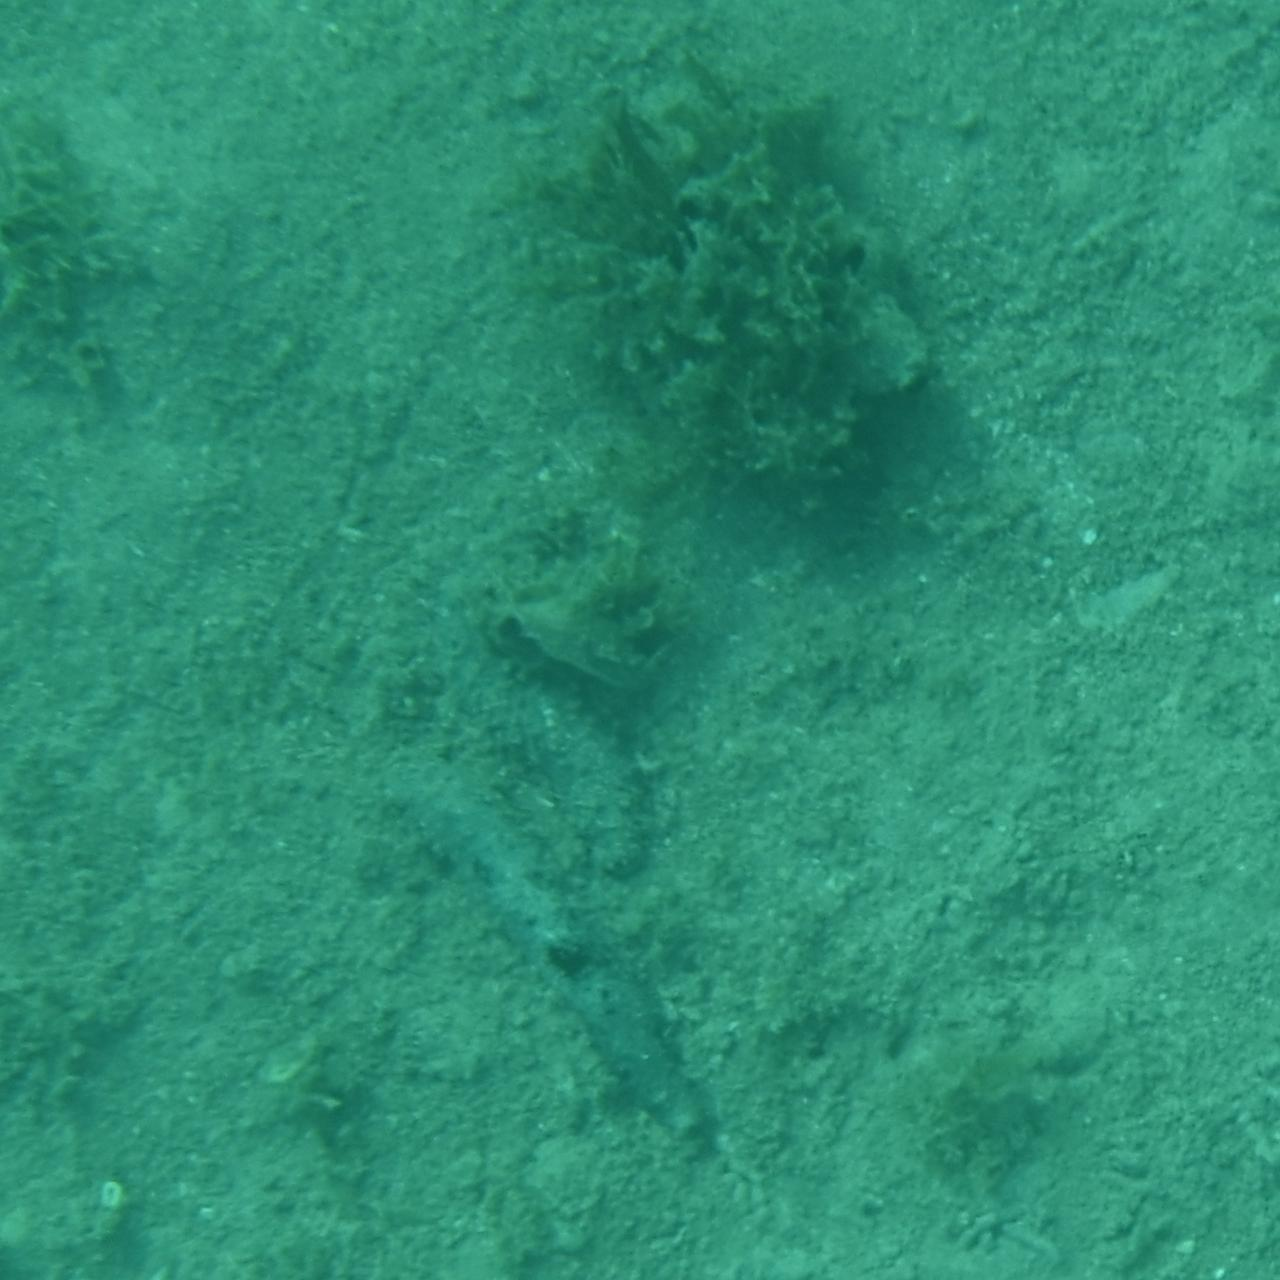Holothuria tubulosa: (411, 779, 784, 1175), (463, 639, 656, 893)
Phaeophyceae -cfr Cystoseira-: (509, 66, 933, 543)
